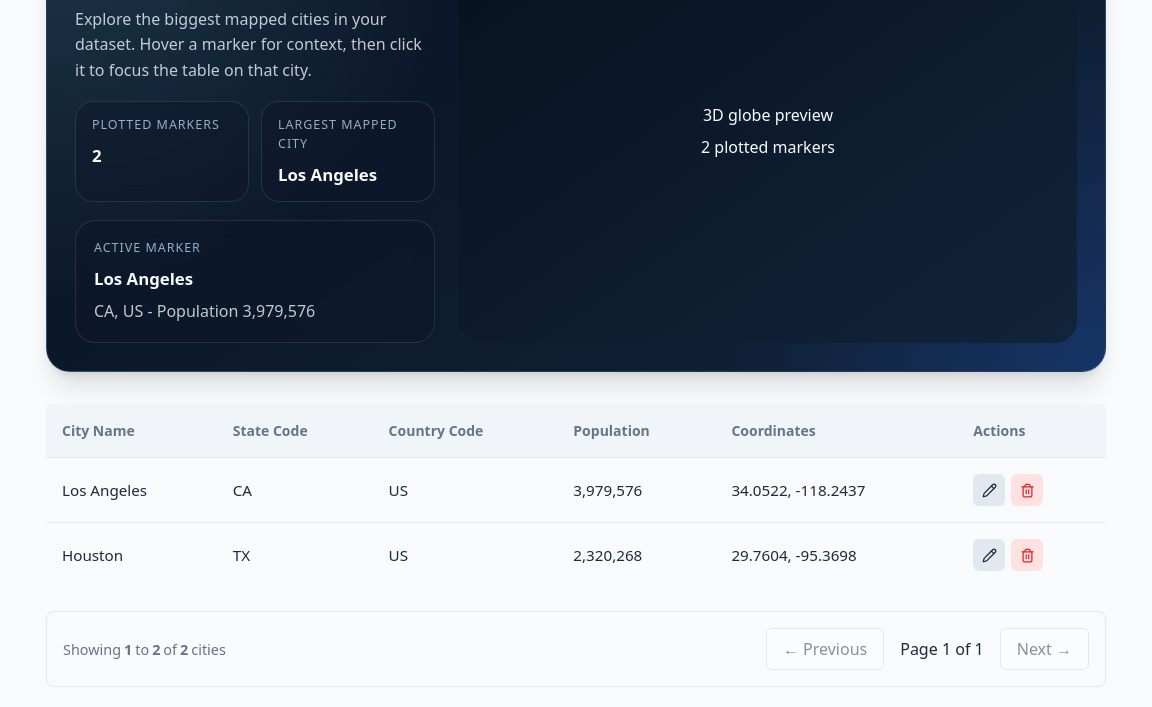
Test: deletes a city after confirmation and refetches with current filters
(page scrolled)
Click the button named "Delete city" next to "34.0522, -118.2437": (1027, 490) [1011,474,1043,506]
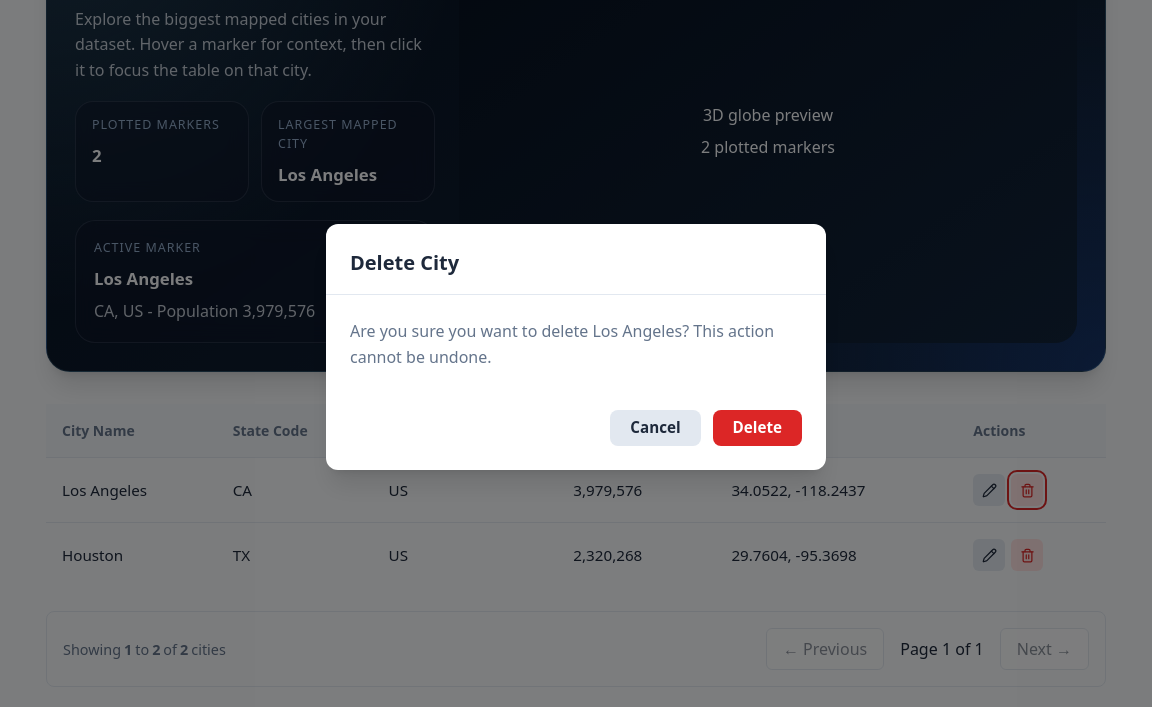
Result: the text "Are you sure you want to delete Los Angeles" is shown at [350,320,774,368]
Click the button "Delete": (757, 428) [713,410,802,446]
(page scrolled)
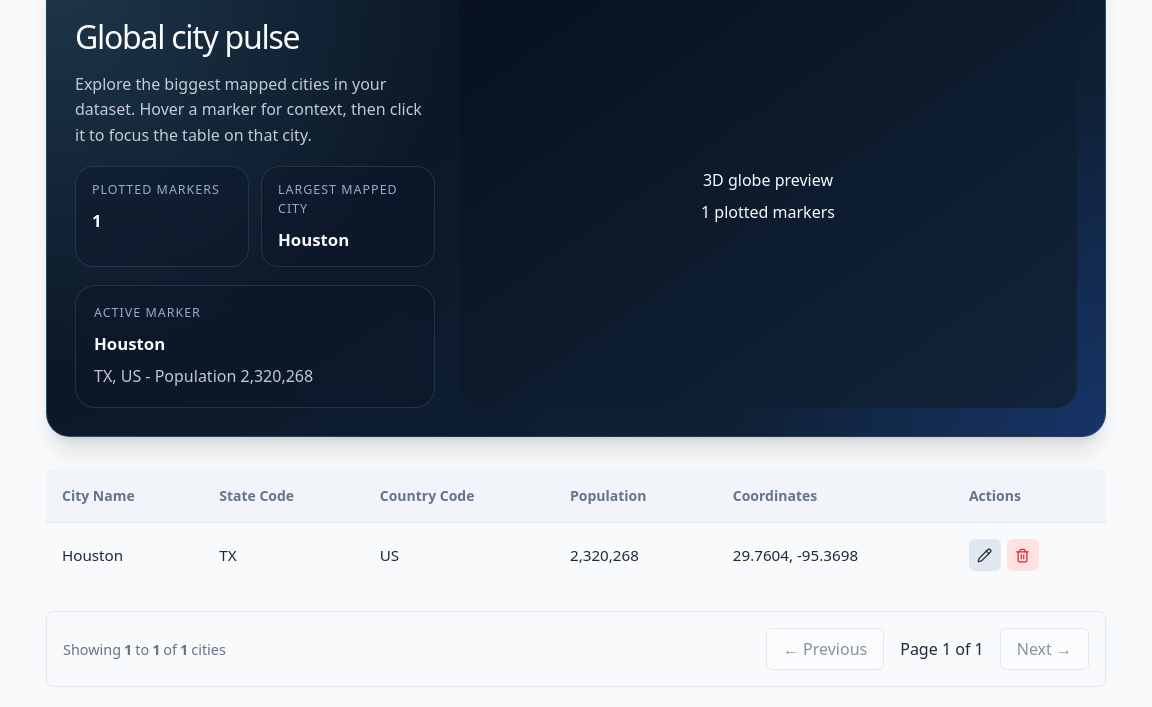
Result: the text "Are you sure you want to delete Los Angeles" is gone
